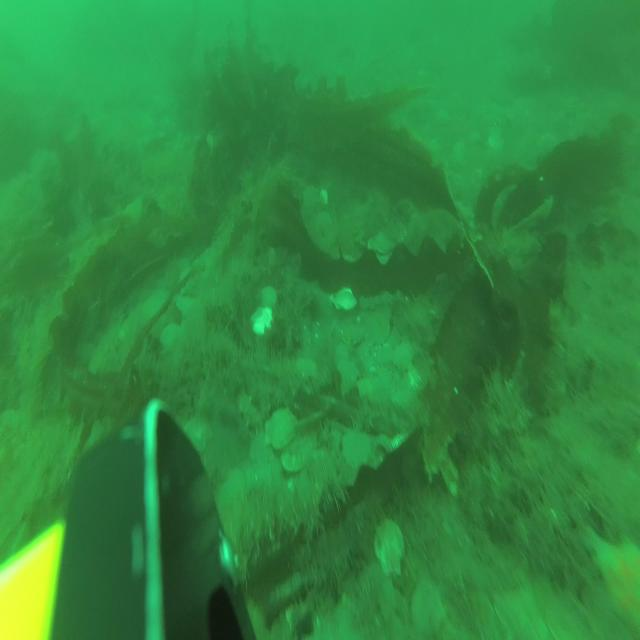holothurian: (233, 387, 263, 436)
scallop: (412, 575, 444, 640), (374, 517, 405, 578), (264, 407, 296, 452), (342, 426, 372, 469), (281, 432, 313, 472), (336, 357, 360, 392), (249, 304, 274, 337), (369, 315, 392, 349), (329, 286, 359, 312), (392, 339, 414, 374), (294, 352, 318, 380), (373, 228, 393, 257), (341, 326, 364, 346), (260, 284, 278, 309)
starfish: (585, 519, 640, 640)
